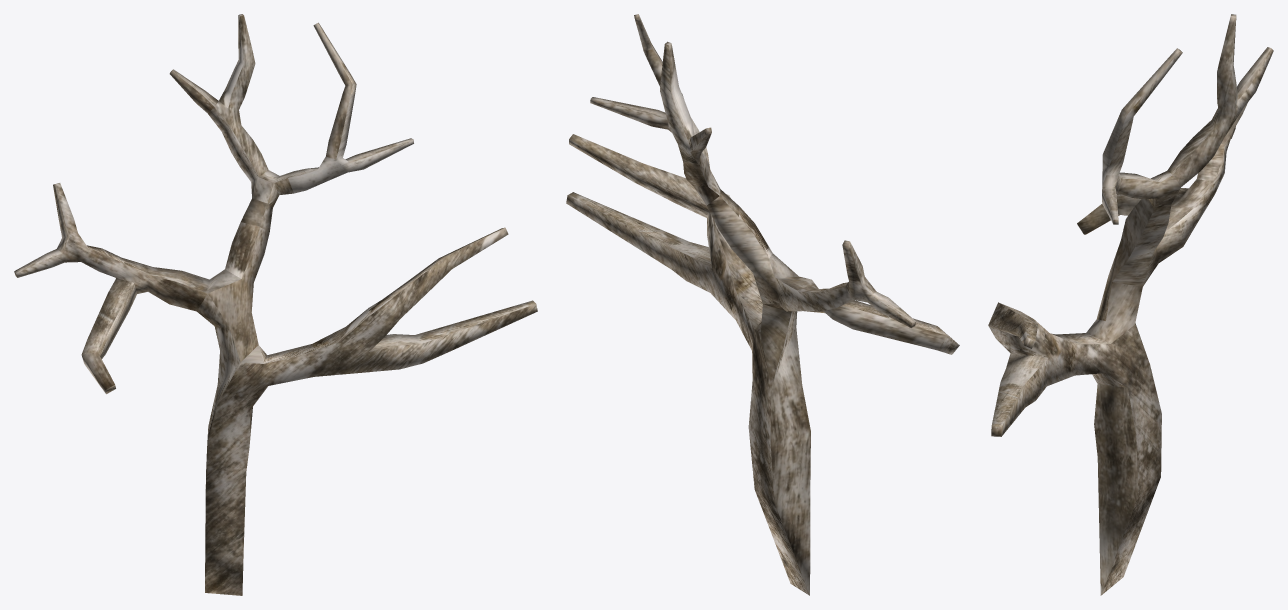
The model's file is DryDesertTree1.fbx.
3 views of the same model, side by side, from view 1: azimuth 30°, elevation 25°; view 2: azimuth 150°, elevation 25°; view 3: azimuth 270°, elevation 25° (orthographic). The views are drawn at different scales.
Parts seen in each view (by area): view 1: DryDesertTree1; view 2: DryDesertTree1; view 3: DryDesertTree1.
Part boxes in pixels (left/top/right/bottom): DryDesertTree1: left=14, top=14, right=537, bottom=595; DryDesertTree1: left=566, top=14, right=959, bottom=595; DryDesertTree1: left=988, top=14, right=1273, bottom=595.
Bounding box in the file's own units: 3.8 × 4.54 × 1.92.
